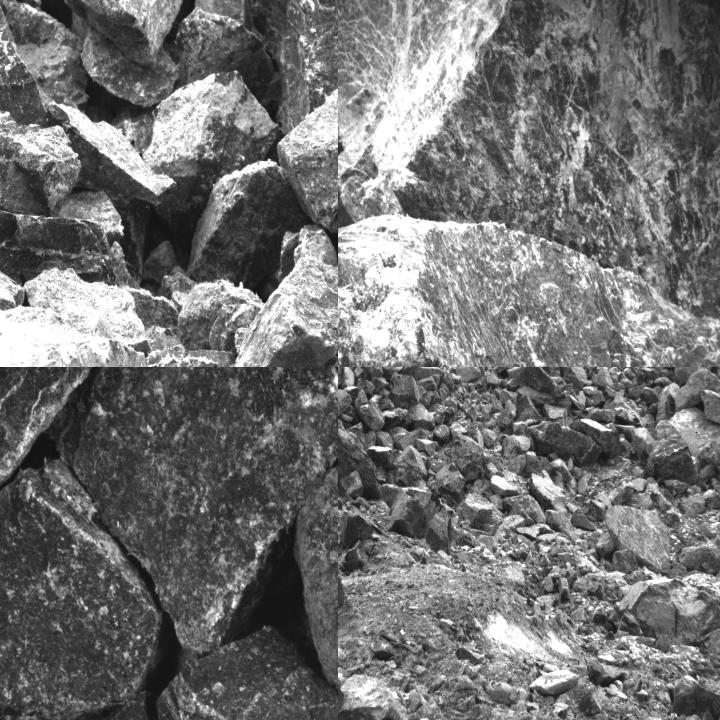stone: (338, 0, 719, 366), (47, 367, 337, 657), (338, 213, 719, 366), (0, 459, 161, 719), (142, 70, 282, 235), (186, 158, 307, 296), (160, 629, 337, 719), (0, 367, 103, 490), (0, 183, 117, 287), (231, 255, 337, 366), (276, 81, 337, 251), (51, 0, 202, 67), (264, 0, 337, 132), (382, 483, 454, 554), (604, 504, 671, 575), (338, 414, 381, 500), (530, 420, 602, 466), (340, 675, 414, 719), (646, 434, 694, 481), (195, 0, 256, 33), (674, 369, 719, 413), (570, 419, 619, 458), (450, 432, 484, 480), (342, 512, 383, 548), (516, 367, 562, 399), (680, 545, 719, 577), (503, 495, 546, 524), (434, 462, 467, 496), (386, 468, 432, 492), (353, 398, 385, 430), (392, 446, 426, 476), (516, 391, 542, 425), (390, 374, 421, 402), (338, 472, 364, 502), (701, 388, 719, 431), (675, 367, 717, 383), (455, 367, 483, 383), (338, 389, 352, 420), (381, 367, 408, 381), (353, 367, 385, 378)
